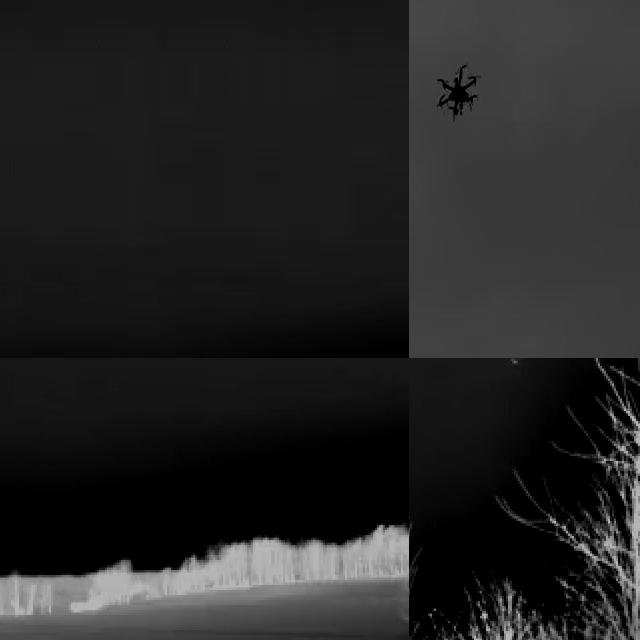0: (500, 358, 524, 381), (389, 450, 409, 477)
drone: (434, 57, 482, 123)
